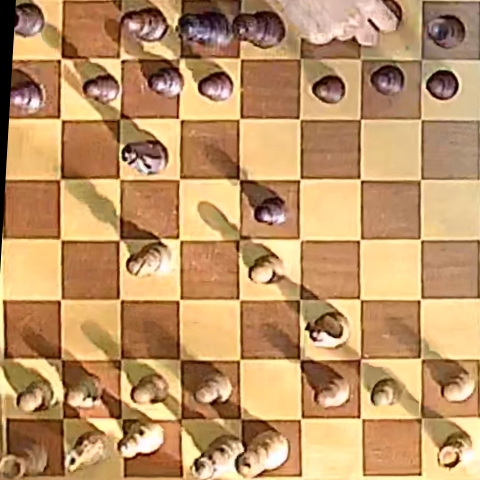black-bishop: (123, 7, 169, 42)
black-king: (231, 11, 284, 47)
black-knight: (122, 140, 167, 175)
black-pawn: (10, 80, 46, 113), (370, 64, 405, 95), (149, 67, 184, 98), (84, 74, 119, 104), (199, 71, 233, 101), (426, 70, 459, 99), (312, 75, 346, 103), (255, 197, 287, 226)
black-queen: (175, 11, 234, 47)
black-rook: (426, 15, 465, 48), (15, 3, 44, 37)
white-bishop: (118, 421, 163, 459), (128, 242, 171, 277)
white-king: (238, 430, 289, 478)
white-knight: (66, 431, 109, 473), (306, 310, 350, 349)
white-pawn: (66, 374, 102, 410), (194, 370, 232, 404), (16, 379, 54, 413), (314, 375, 351, 408), (441, 368, 476, 402), (131, 374, 169, 405), (249, 253, 283, 284), (371, 378, 399, 407)
white-queen: (191, 434, 244, 479)
white-rook: (1, 440, 47, 477), (437, 433, 473, 469)
